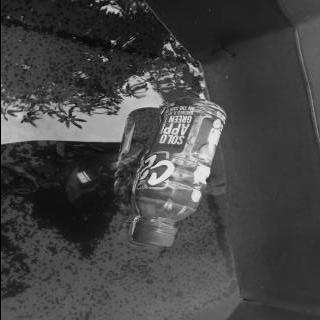bottle: (126, 96, 227, 248)
